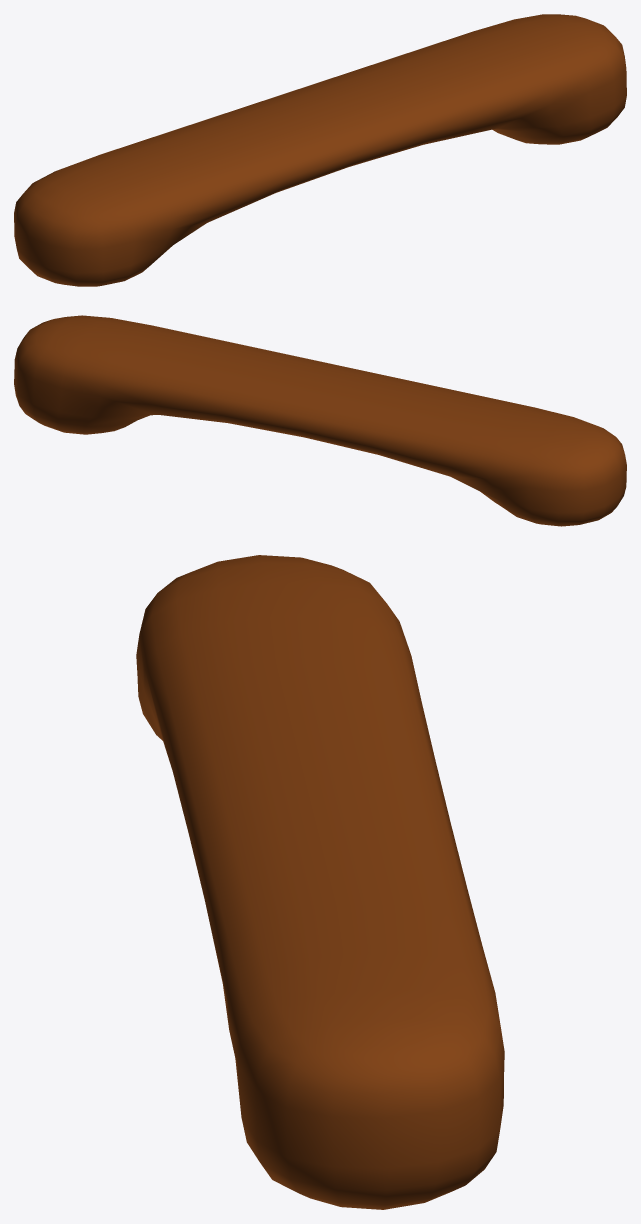
Rendered from bridge1.fbx.
3 views of the same model, one above another, from view 1: azimuth 30°, elevation 25°; view 2: azimuth 150°, elevation 25°; view 3: azimuth 270°, elevation 25° (orthographic). The views are drawn at different scales.
Visible parts, largest first — view 1: Cube.064; view 2: Cube.064; view 3: Cube.064.
Part boxes in pixels (x1=…): Cube.064: x1=14, y1=14, x2=626, y2=286; Cube.064: x1=14, y1=315, x2=626, y2=526; Cube.064: x1=136, y1=555, x2=504, y2=1209.
Bounding box in the file's own units: 1918 × 302 × 540.
